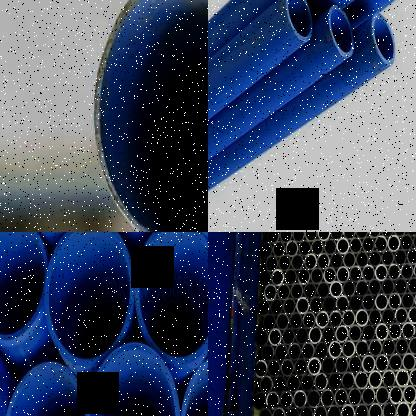pipe: (94, 0, 208, 232), (43, 232, 133, 367), (135, 232, 208, 363), (84, 342, 180, 416), (0, 232, 48, 341), (1, 360, 90, 416), (328, 5, 355, 58), (372, 13, 394, 66), (286, 0, 313, 43), (306, 388, 321, 410), (320, 356, 336, 376), (320, 388, 335, 409), (327, 372, 342, 392), (395, 368, 410, 388), (341, 340, 356, 360), (265, 391, 280, 411), (348, 354, 362, 375), (375, 353, 389, 374), (279, 390, 293, 411), (293, 389, 307, 410), (266, 359, 281, 378), (314, 341, 329, 360), (381, 338, 396, 357), (282, 297, 297, 316), (367, 278, 382, 297), (273, 374, 287, 394), (286, 374, 300, 394), (300, 373, 314, 393), (314, 372, 328, 392), (341, 371, 355, 391), (354, 370, 368, 390), (368, 370, 382, 390), (382, 369, 396, 389), (280, 358, 294, 378), (294, 358, 308, 378), (307, 356, 321, 376), (362, 354, 376, 374), (402, 352, 416, 372), (260, 344, 274, 364), (274, 342, 288, 362), (288, 342, 302, 362), (328, 340, 342, 360), (368, 338, 382, 358), (295, 326, 309, 346), (308, 326, 322, 346), (348, 324, 362, 344), (362, 323, 376, 343), (402, 321, 416, 341), (315, 310, 329, 330), (252, 392, 266, 412), (334, 388, 348, 408), (348, 387, 362, 407), (362, 386, 376, 406), (375, 386, 389, 406), (389, 385, 403, 405), (259, 375, 273, 395), (334, 356, 349, 374), (275, 313, 290, 331), (341, 310, 356, 328), (263, 284, 278, 302), (301, 342, 315, 361), (268, 328, 282, 347), (375, 323, 389, 342), (388, 322, 402, 341), (288, 312, 302, 331), (328, 310, 342, 329), (368, 308, 382, 327), (394, 307, 408, 326), (270, 298, 284, 317), (309, 296, 323, 315), (322, 295, 336, 314), (258, 269, 272, 288), (361, 264, 375, 283), (374, 263, 388, 282), (380, 249, 394, 268), (362, 235, 376, 254), (374, 235, 388, 254), (403, 384, 416, 404), (388, 354, 402, 372), (355, 340, 369, 358), (395, 338, 409, 356), (282, 328, 296, 346), (322, 326, 336, 344), (262, 314, 276, 332), (302, 312, 316, 330), (355, 309, 369, 327), (381, 308, 395, 326), (296, 297, 310, 315), (348, 294, 362, 312), (361, 294, 375, 312), (374, 294, 388, 312), (388, 292, 402, 310), (400, 292, 414, 310), (276, 283, 290, 301), (290, 282, 304, 300), (303, 282, 317, 300), (316, 282, 330, 300), (342, 280, 356, 298), (381, 278, 395, 296), (394, 278, 408, 296), (284, 268, 298, 286), (296, 268, 310, 286), (323, 266, 337, 284), (336, 266, 350, 284), (348, 266, 362, 284), (400, 262, 414, 280), (290, 254, 304, 272), (342, 251, 356, 269), (368, 250, 382, 268), (272, 240, 286, 258), (336, 236, 350, 254), (349, 236, 363, 254), (317, 252, 330, 271), (304, 252, 317, 271), (400, 233, 413, 252), (256, 328, 268, 348), (277, 255, 291, 272), (284, 241, 298, 258), (310, 239, 324, 256), (257, 298, 270, 316), (310, 266, 323, 284), (265, 255, 278, 273), (330, 252, 343, 270), (387, 234, 400, 252), (336, 295, 348, 314), (388, 263, 400, 282), (297, 240, 311, 256), (336, 325, 348, 343), (330, 281, 342, 299), (356, 280, 368, 298), (272, 268, 284, 286), (356, 250, 368, 268), (394, 248, 406, 266), (324, 238, 336, 256), (396, 401, 410, 416), (260, 242, 273, 258), (368, 402, 382, 416), (382, 402, 396, 416), (355, 403, 369, 416), (406, 247, 416, 265), (313, 404, 327, 416), (327, 404, 341, 416), (341, 404, 355, 416), (407, 306, 416, 324), (407, 276, 416, 294), (266, 232, 279, 244), (279, 232, 292, 244), (299, 405, 313, 416), (408, 336, 416, 355), (409, 367, 416, 388), (285, 406, 299, 416), (292, 232, 304, 243), (304, 232, 317, 242), (258, 407, 272, 416), (272, 407, 286, 416), (317, 232, 330, 241), (329, 232, 343, 240), (342, 232, 356, 240), (355, 232, 368, 239), (355, 232, 368, 239), (410, 401, 416, 416), (367, 232, 380, 238), (380, 232, 393, 237), (393, 232, 406, 237), (406, 232, 416, 238), (413, 290, 416, 309), (413, 232, 416, 251), (413, 262, 416, 279)
